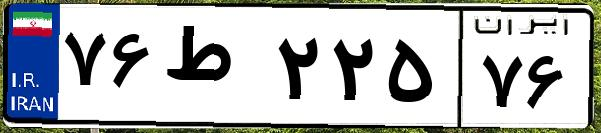2: (270, 28, 330, 110), (330, 28, 385, 110)
5: (385, 28, 445, 110)
6: (525, 38, 570, 115), (110, 28, 158, 98)
7: (57, 26, 110, 100), (475, 38, 525, 113)
ط: (158, 20, 270, 120)
